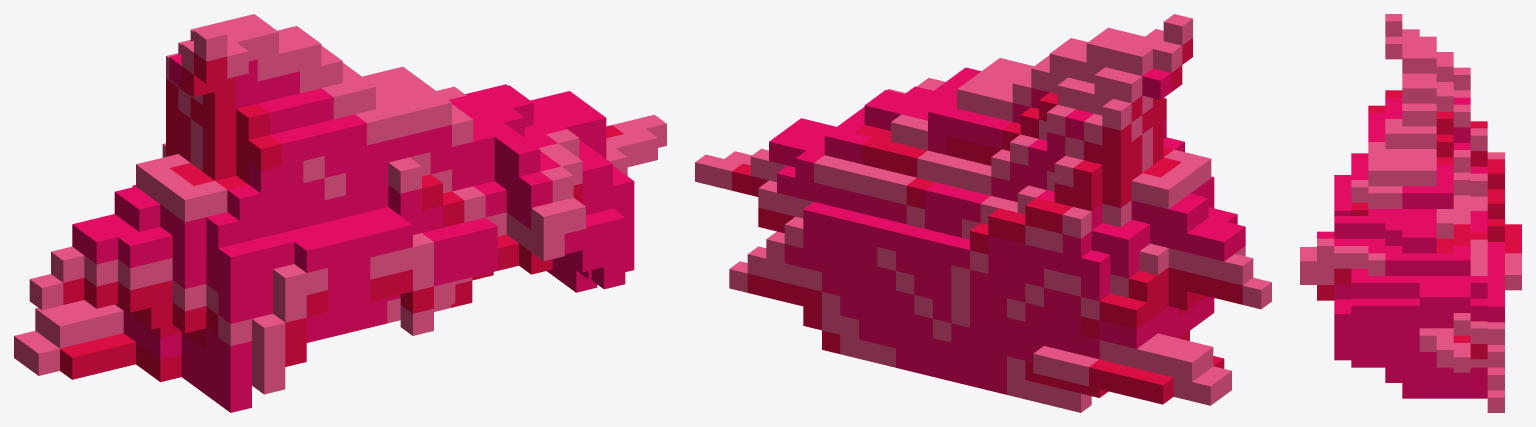
Rendered from accessories_head_gokussjgod.glb.
The picture shows the model from 3 angles, left to right: view 1: azimuth 30°, elevation 25°; view 2: azimuth 150°, elevation 25°; view 3: azimuth 270°, elevation 25°; orthographic projection. The views are drawn at different scales.
Parts seen in each view (by area): view 1: model_0; view 2: model_0; view 3: model_0.
Boxes of the visible parts, x1=… form: model_0: x1=14, y1=14, x2=666, y2=412; model_0: x1=695, y1=14, x2=1271, y2=412; model_0: x1=1300, y1=14, x2=1521, y2=412.
Bounding box in the file's own units: 30 × 18 × 13.
